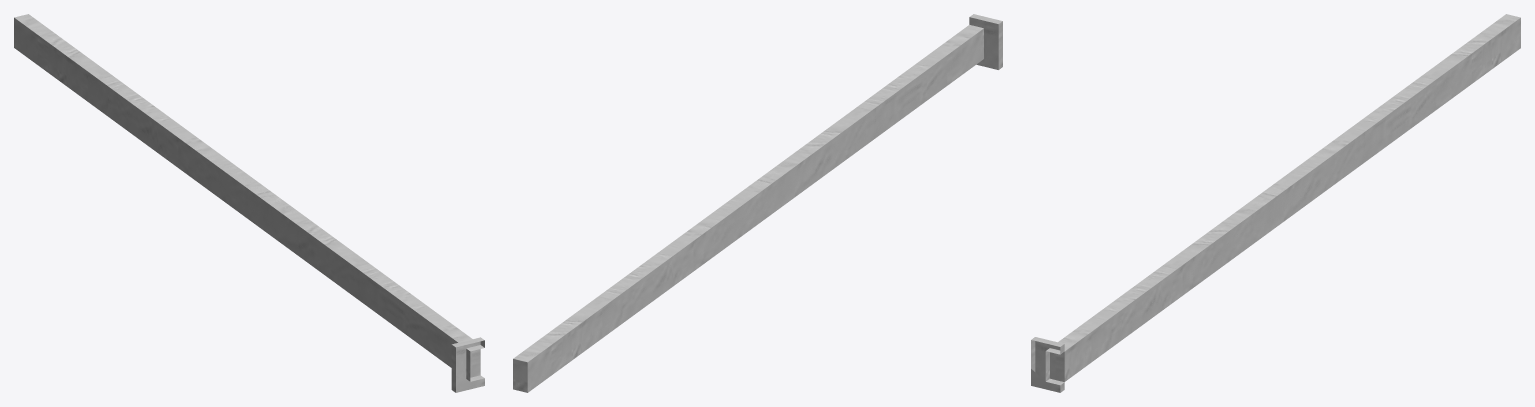
The model's file is original-91.obj.
3 renders of one model, left to right at view 1: azimuth 30°, elevation 25°; view 2: azimuth 150°, elevation 25°; view 3: azimuth 330°, elevation 25°, orthographic.
Parts seen in each view (by area): view 1: mesh90/mesh90-geometry#mesh90-geometry; view 2: mesh90/mesh90-geometry#mesh90-geometry; view 3: mesh90/mesh90-geometry#mesh90-geometry.
Part boxes in pixels (x1,y1,x2,y2): mesh90/mesh90-geometry#mesh90-geometry: (14,14,484,392); mesh90/mesh90-geometry#mesh90-geometry: (513,14,1002,392); mesh90/mesh90-geometry#mesh90-geometry: (1031,14,1520,392).
Bounding box in the file's own units: 0.0364 × 0.0546 × 0.9903.
